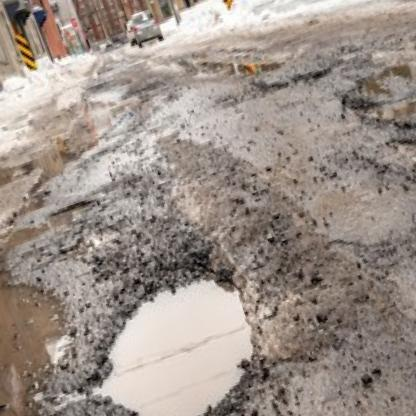pothole: (60, 243, 284, 416), (40, 195, 98, 232)
